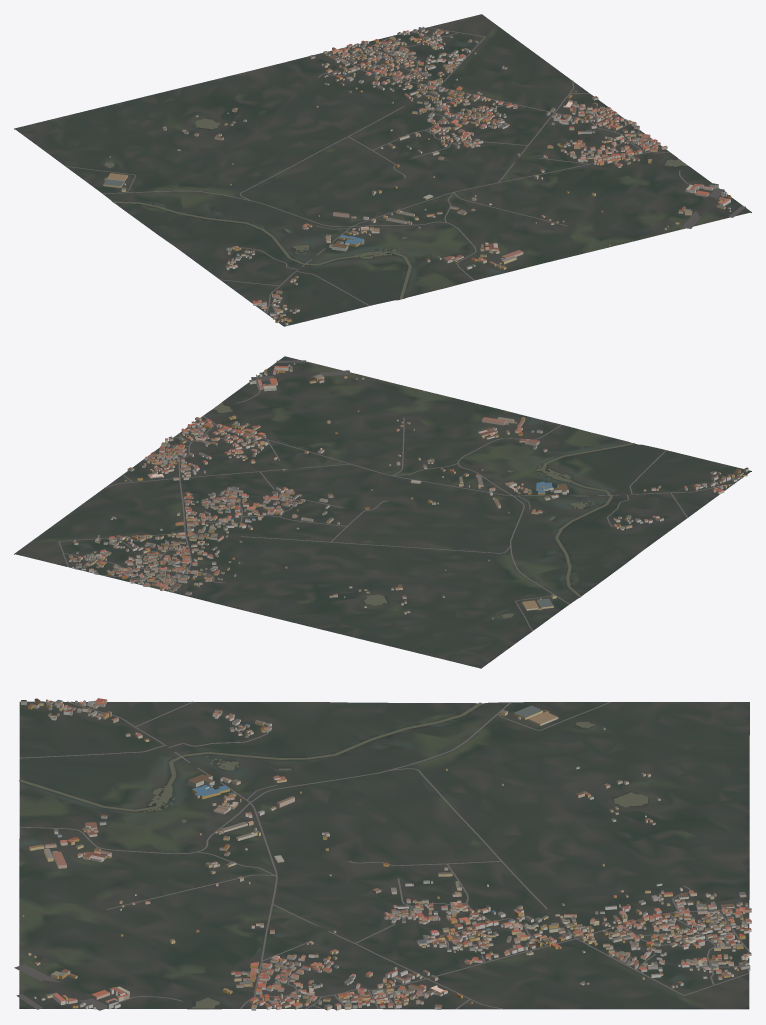
3 renders of one model, top to bottom at view 1: azimuth 30°, elevation 25°; view 2: azimuth 150°, elevation 25°; view 3: azimuth 270°, elevation 25°, orthographic. The views are drawn at different scales.
Visible parts, largest first — view 1: ground, buildings, roads, water; view 2: ground, buildings, roads, water; view 3: ground, buildings, roads, water.
Part boxes in pixels (x1,y1,x2,y2): ground: [14, 14, 751, 326]; buildings: [103, 26, 731, 325]; roads: [66, 27, 745, 319]; water: [104, 118, 687, 299]; ground: [14, 356, 751, 668]; buildings: [68, 363, 748, 619]; roads: [58, 360, 740, 630]; water: [213, 403, 634, 618]; ground: [19, 701, 749, 1009]; buildings: [21, 698, 751, 1010]; roads: [14, 701, 749, 1010]; water: [19, 702, 648, 1008].
Size of the model in its own units: 1415 by 18.13 by 1417.
